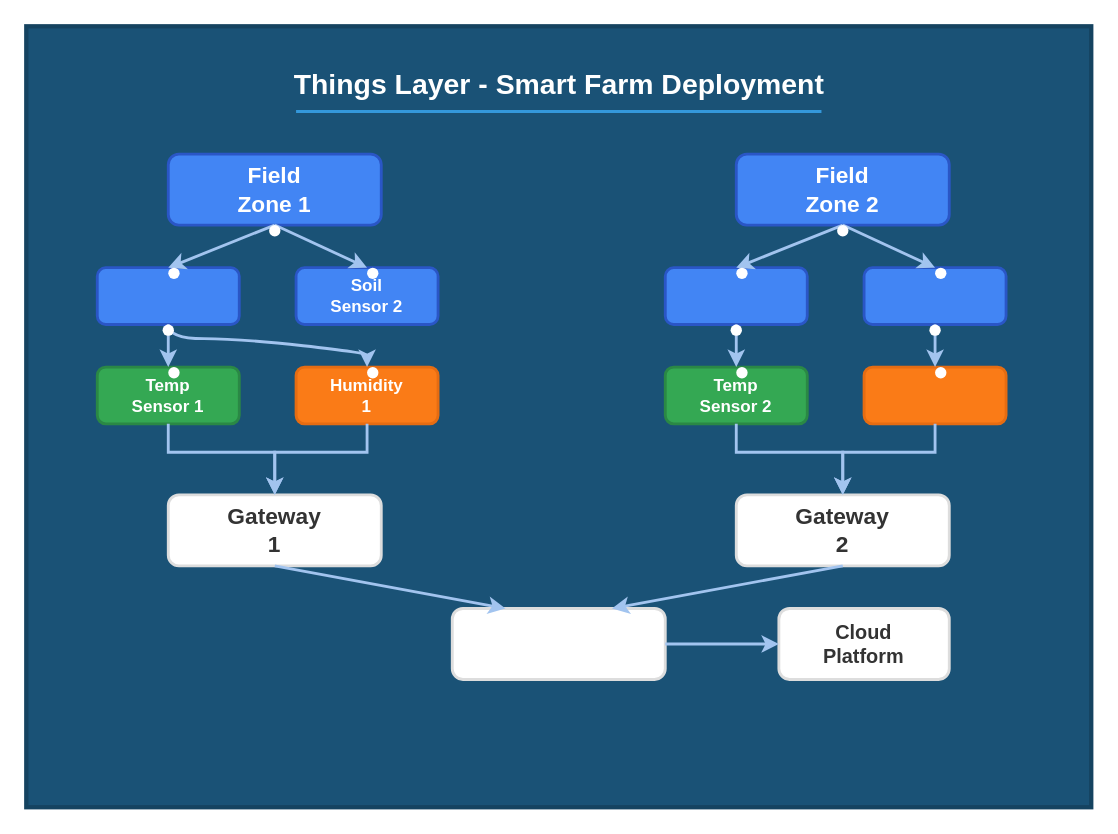
This 1118x834 diagram has some shape labels left out. The shapes that lost their labels are listed below. From the top down, each one's centre as x and y in pixels, then its label:
At point 167,295: "Soil Sensor 1".
At point 735,295: "Soil Sensor 3".
At point 934,295: "Soil Sensor 4".
At point 934,395: "Humidity 2".
At point 558,643: "Network Server".
